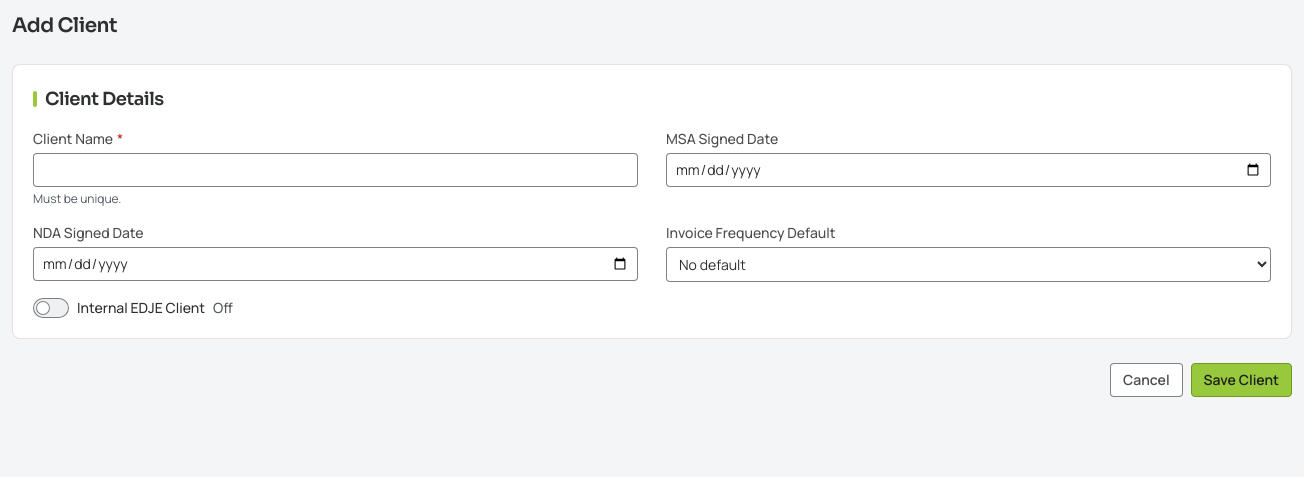
Scenario: ClientFormPage — adding › surfaces a server-side validation rejection inline
Type "Fabrikam" into the field labelled "Client Name*" at [336, 170], box 33,153 -> 638,187
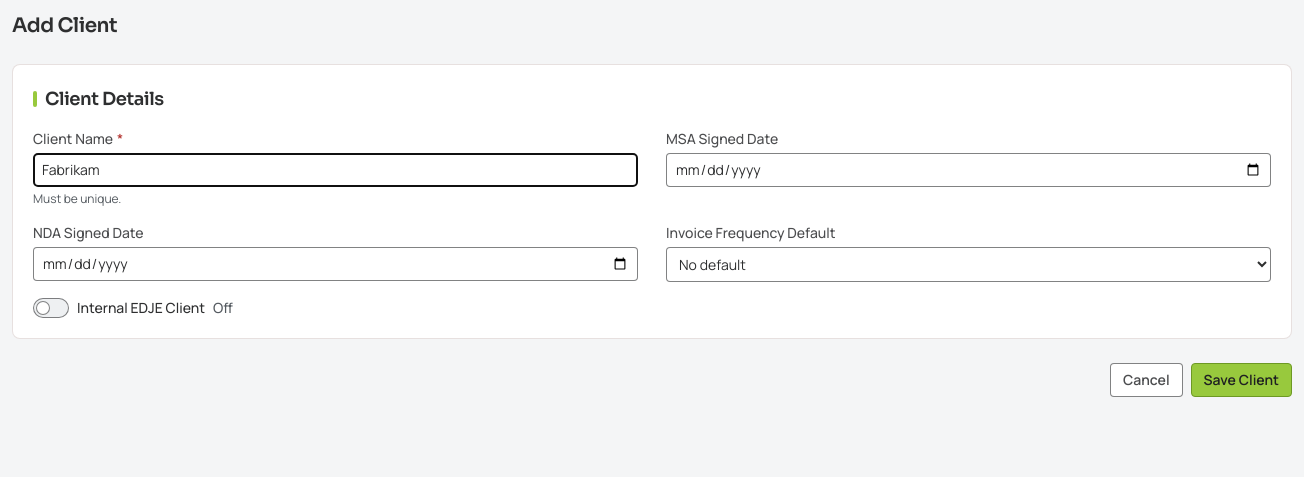
Click the button "Save Client" at [1241, 380], box 1191,363 -> 1292,397
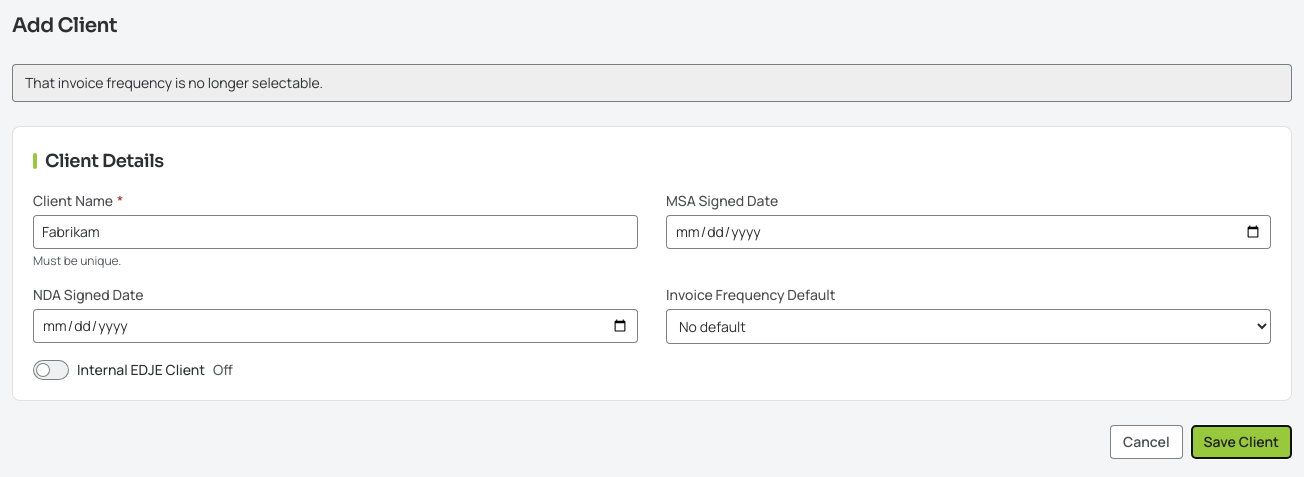
Expected: the message shows "no longer selectable", 25,73 -> 323,92
